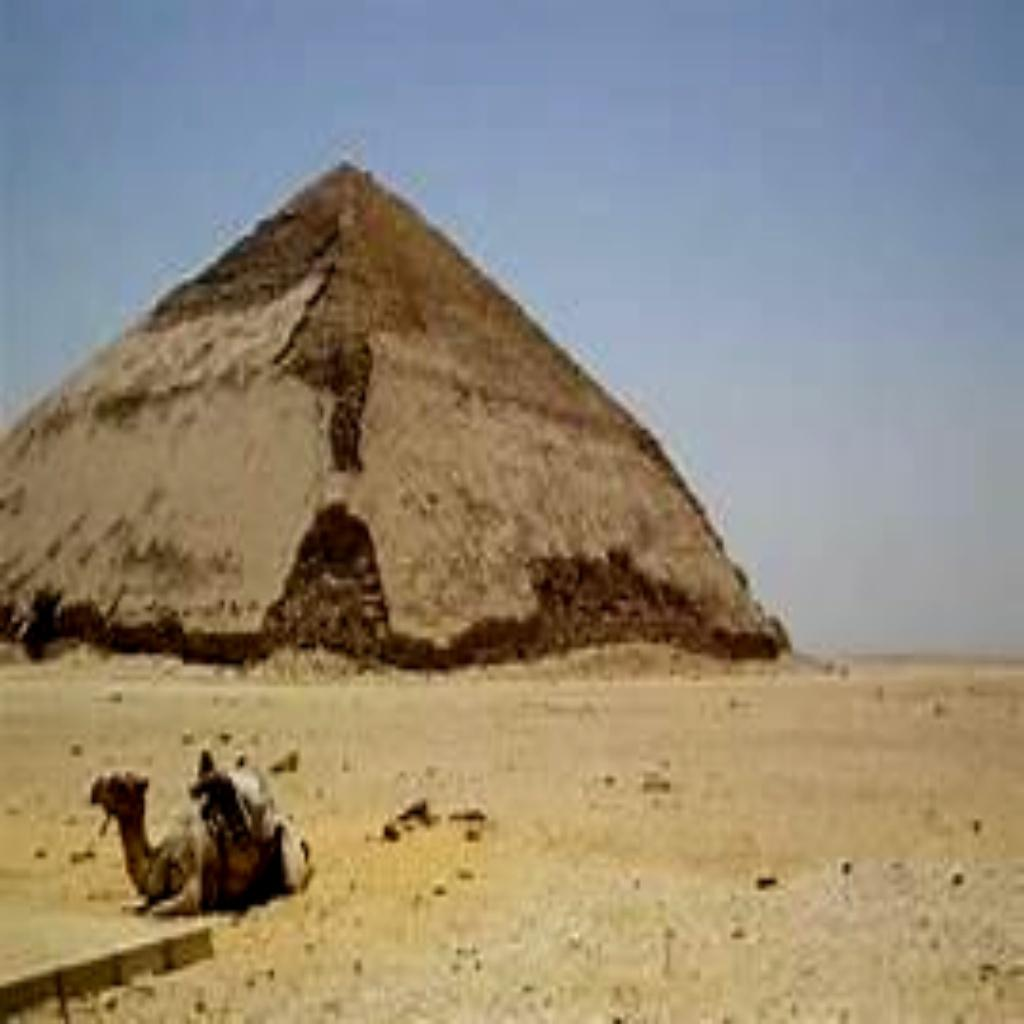Bent Pyramid of King Sneferu: (0, 150, 792, 676)
